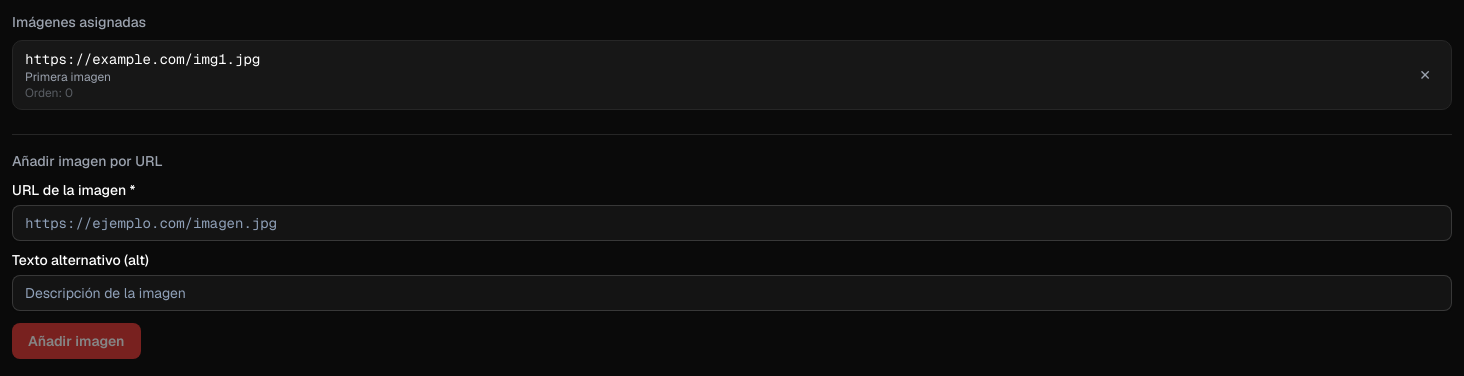
Test case: ProductImagesPanel › eliminar imagen › muestra confirmación al hacer clic en el botón eliminar
Step 1. Click the button titled "Eliminar" → [1425, 75], box [1411, 61, 1439, 89]
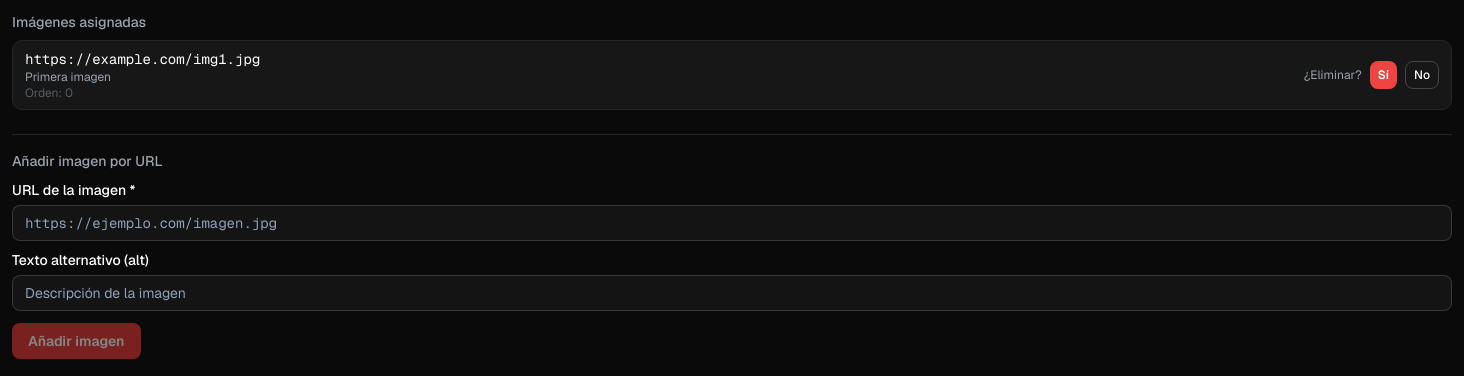
Check: the text "¿Eliminar?" is shown, box [1304, 67, 1362, 83]
Check: the button "Sí" is shown, box [1370, 61, 1397, 89]
Check: the button "No" is shown, box [1405, 61, 1439, 89]
